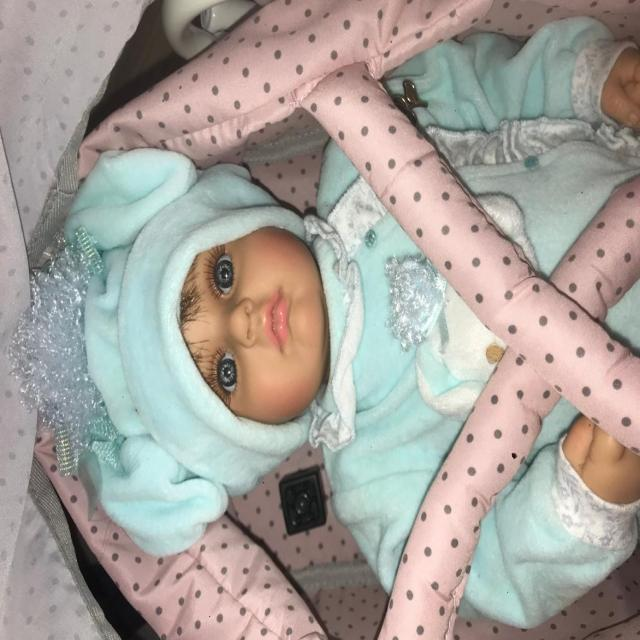hidden camera: (294, 493, 311, 518)
